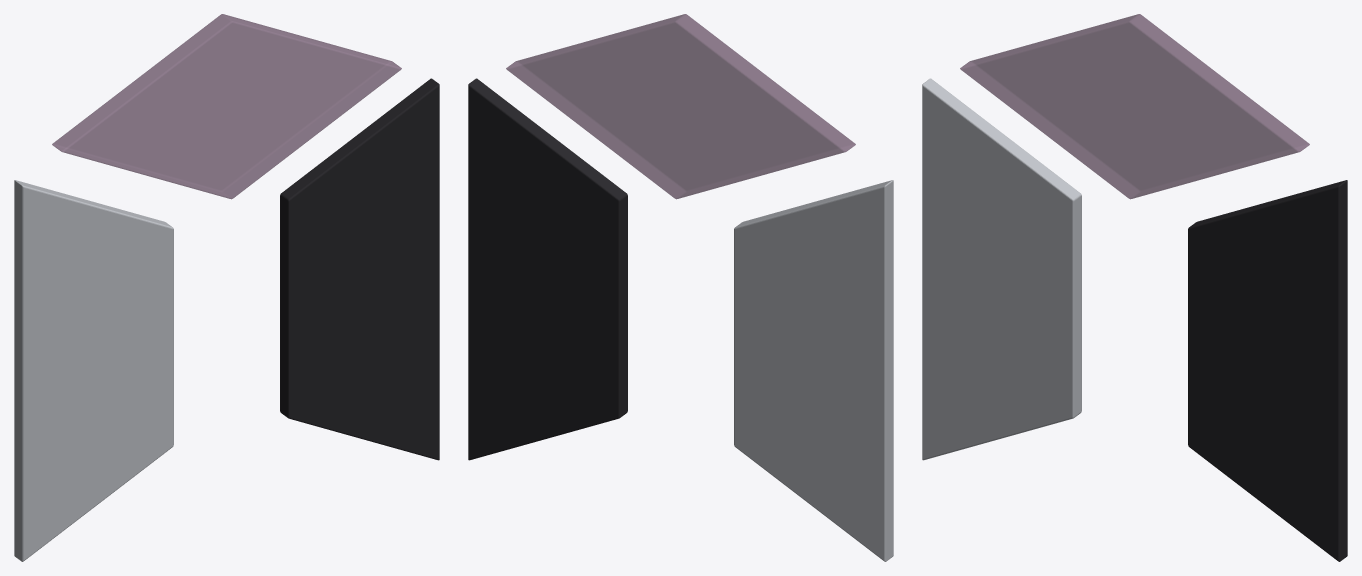
Rendered from jg-core-animated.glb.
3 renders of one model, left to right at view 1: azimuth 30°, elevation 25°; view 2: azimuth 150°, elevation 25°; view 3: azimuth 330°, elevation 25°, orthographic.
Parts seen in each view (by area): view 1: jg_panel_silver, jg_panel_carbon, jg_cap_aubergine; view 2: jg_panel_silver, jg_panel_carbon, jg_cap_aubergine; view 3: jg_panel_silver, jg_panel_carbon, jg_cap_aubergine.
Part boxes in pixels (x1,y1,x2,y2): jg_panel_silver: [14, 180, 173, 561]; jg_panel_carbon: [280, 78, 439, 460]; jg_cap_aubergine: [52, 14, 401, 199]; jg_panel_silver: [734, 180, 893, 561]; jg_panel_carbon: [468, 78, 627, 460]; jg_cap_aubergine: [506, 14, 855, 199]; jg_panel_silver: [922, 78, 1081, 460]; jg_panel_carbon: [1188, 180, 1347, 561]; jg_cap_aubergine: [960, 14, 1309, 199].
Bounding box in the file's own units: 3.52 × 3.95 × 0.16.
